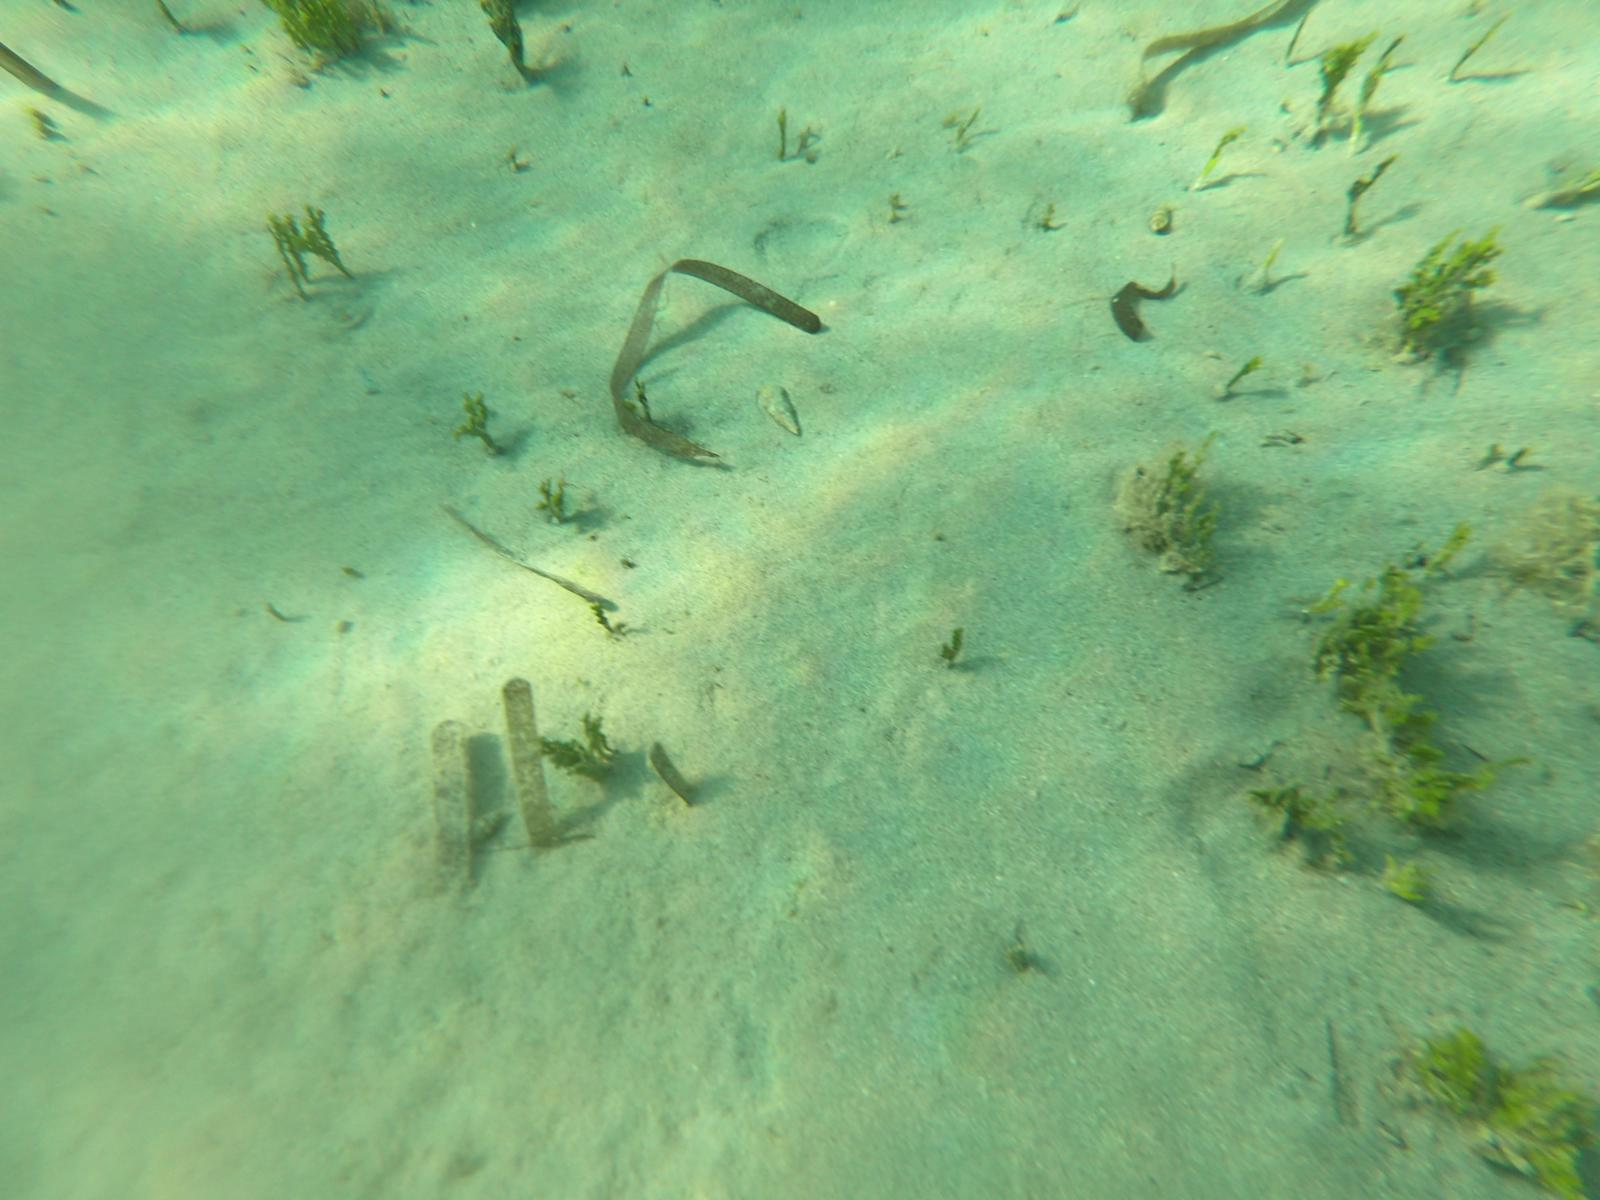halimeda: (1310, 560, 1432, 684), (1391, 221, 1493, 355), (1153, 453, 1221, 585), (1390, 753, 1511, 821), (273, 1, 380, 72), (271, 205, 351, 297), (1405, 1040, 1493, 1111), (1313, 24, 1369, 126), (538, 706, 614, 782), (1364, 679, 1430, 755), (483, 1, 538, 83), (1259, 785, 1328, 846), (1198, 124, 1240, 195), (452, 389, 498, 455), (1376, 858, 1430, 903), (1432, 516, 1473, 572), (533, 476, 568, 522), (774, 108, 797, 166), (593, 601, 624, 640), (937, 630, 960, 667), (1227, 359, 1245, 396)
